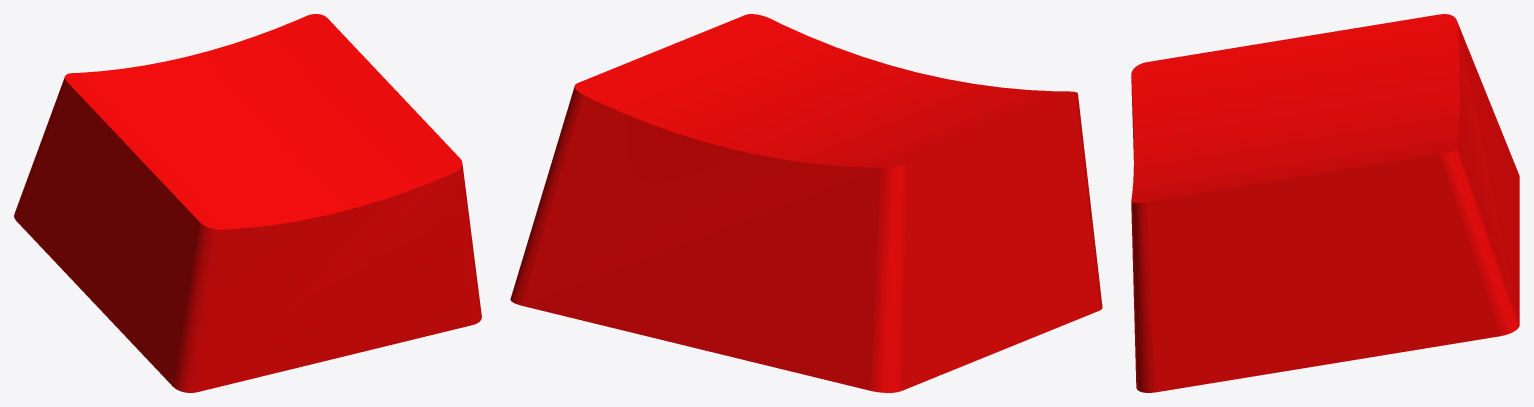
The model's file is original-40.obj.
3 views of the same model, side by side, from view 1: azimuth 30°, elevation 25°; view 2: azimuth 150°, elevation 25°; view 3: azimuth 270°, elevation 25° (orthographic). The views are drawn at different scales.
Visible parts, largest first — view 1: 组件_1_28/组件_1/mesh7/mesh7-geometry#mesh7-geometry; view 2: 组件_1_28/组件_1/mesh7/mesh7-geometry#mesh7-geometry; view 3: 组件_1_28/组件_1/mesh7/mesh7-geometry#mesh7-geometry.
Part boxes in pixels (x1,y1,x2,y2): 组件_1_28/组件_1/mesh7/mesh7-geometry#mesh7-geometry: (14,14,481,392); 组件_1_28/组件_1/mesh7/mesh7-geometry#mesh7-geometry: (510,14,1102,392); 组件_1_28/组件_1/mesh7/mesh7-geometry#mesh7-geometry: (1131,14,1519,392).
Size of the model in its own units: 0.0751 by 0.0489 by 0.0749.
